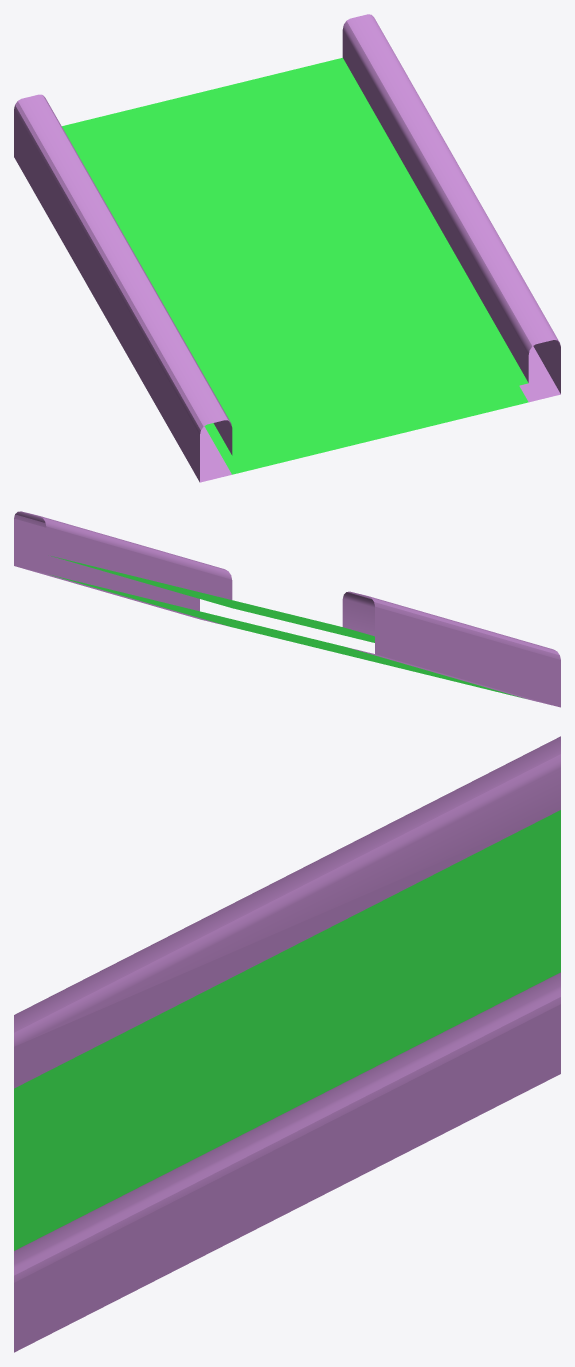
Rendered from Slide1.fbx.
3 views of the same model, one above another, from view 1: azimuth 30°, elevation 25°; view 2: azimuth 150°, elevation 25°; view 3: azimuth 270°, elevation 25° (orthographic). The views are drawn at different scales.
Visible parts, largest first — view 1: Slide1; view 2: Slide1; view 3: Slide1.
Boxes of the visible parts, box(x1,y1,x2,y2) form: Slide1: box(14, 14, 560, 482); Slide1: box(14, 511, 560, 707); Slide1: box(14, 736, 560, 1352).
Bounding box in the file's own units: 2.5 × 1.63 × 2.23.
